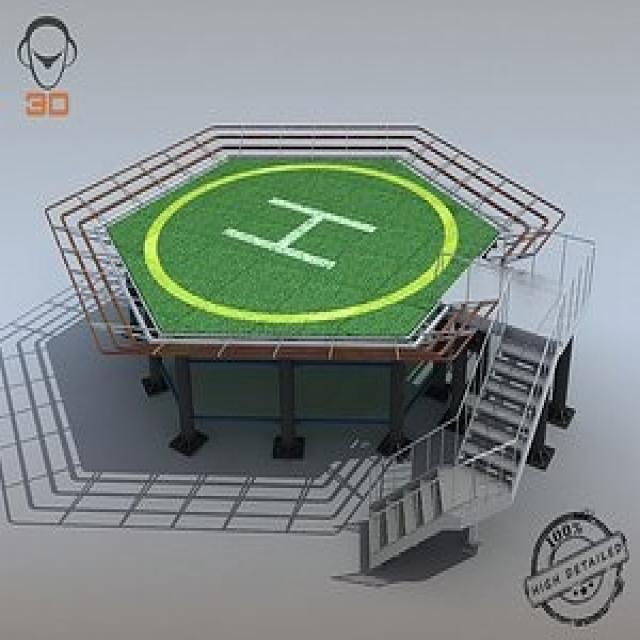helipad: (136, 154, 461, 322)
